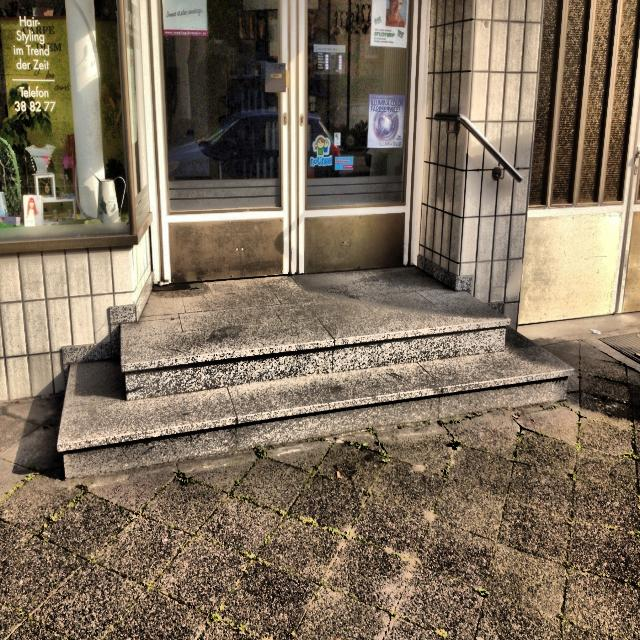escada: (62, 318, 570, 478)
